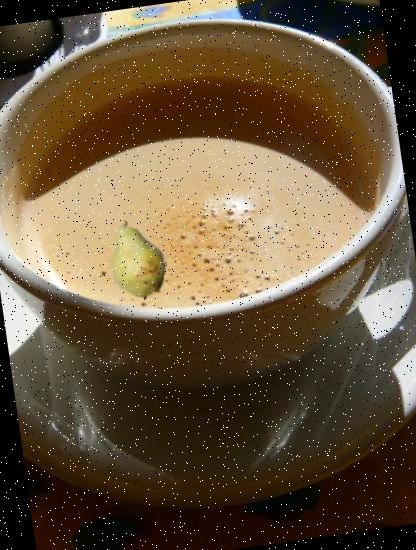Pear: (90, 213, 184, 306)
